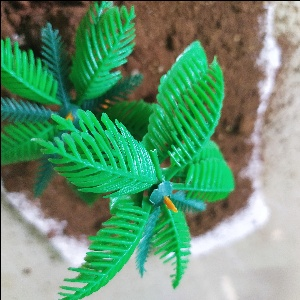plant: (2, 4, 240, 295)
